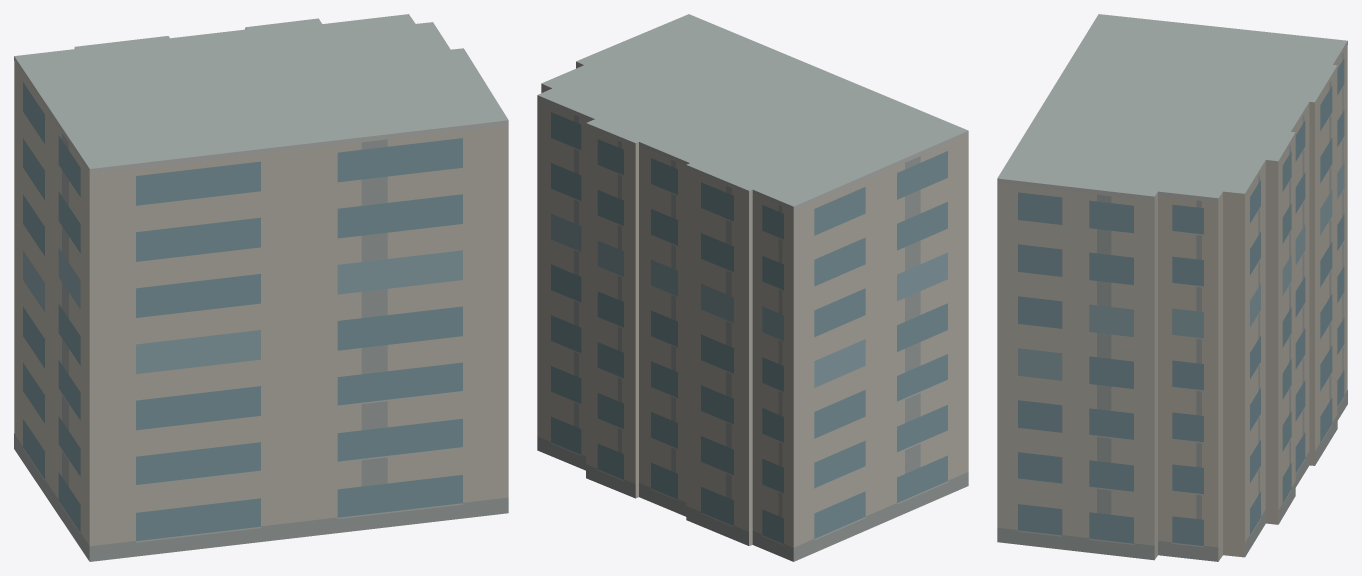
File: survey-upis-32666099.glb
The picture shows the model from 3 angles, left to right: view 1: azimuth 30°, elevation 25°; view 2: azimuth 150°, elevation 25°; view 3: azimuth 270°, elevation 25°; orthographic projection. The views are drawn at different scales.
Parts seen in each view (by area): view 1: survey-upis-32666099.tmp; view 2: survey-upis-32666099.tmp; view 3: survey-upis-32666099.tmp.
Boxes of the visible parts, x1=… form: survey-upis-32666099.tmp: x1=14, y1=14, x2=508, y2=561; survey-upis-32666099.tmp: x1=537, y1=14, x2=968, y2=561; survey-upis-32666099.tmp: x1=997, y1=14, x2=1347, y2=561.
Bounding box in the file's own units: 20.88 × 19.2 × 16.79.
